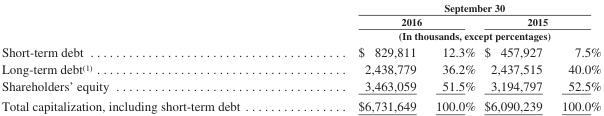table: (0, 1, 600, 113)
table column: (0, 1, 298, 113), (298, 1, 425, 113), (479, 1, 551, 113), (425, 1, 479, 113), (551, 1, 600, 113)
table column header: (0, 1, 600, 59)
table row: (0, 76, 600, 95), (0, 95, 600, 113), (0, 42, 600, 59), (0, 59, 600, 76), (0, 14, 600, 28), (0, 28, 600, 42), (0, 1, 600, 14)
table spanning cell: (0, 1, 298, 59), (298, 28, 600, 42), (298, 1, 600, 14), (298, 14, 479, 28), (479, 14, 600, 28)
